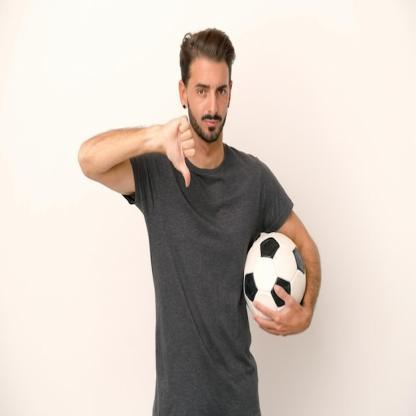thumb_down: (160, 110, 196, 190)
